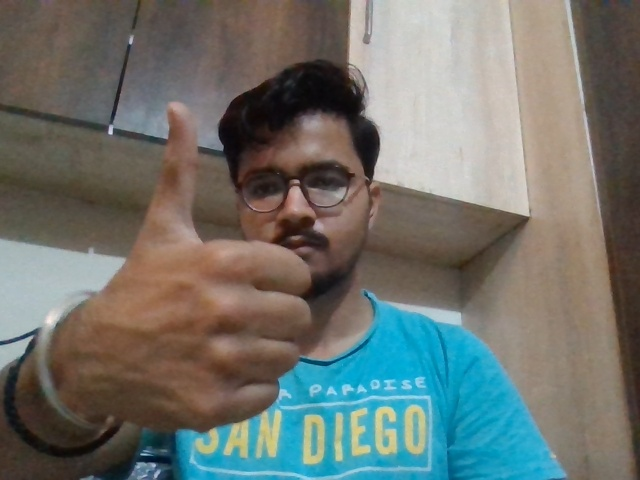yes: (102, 101, 320, 434)
